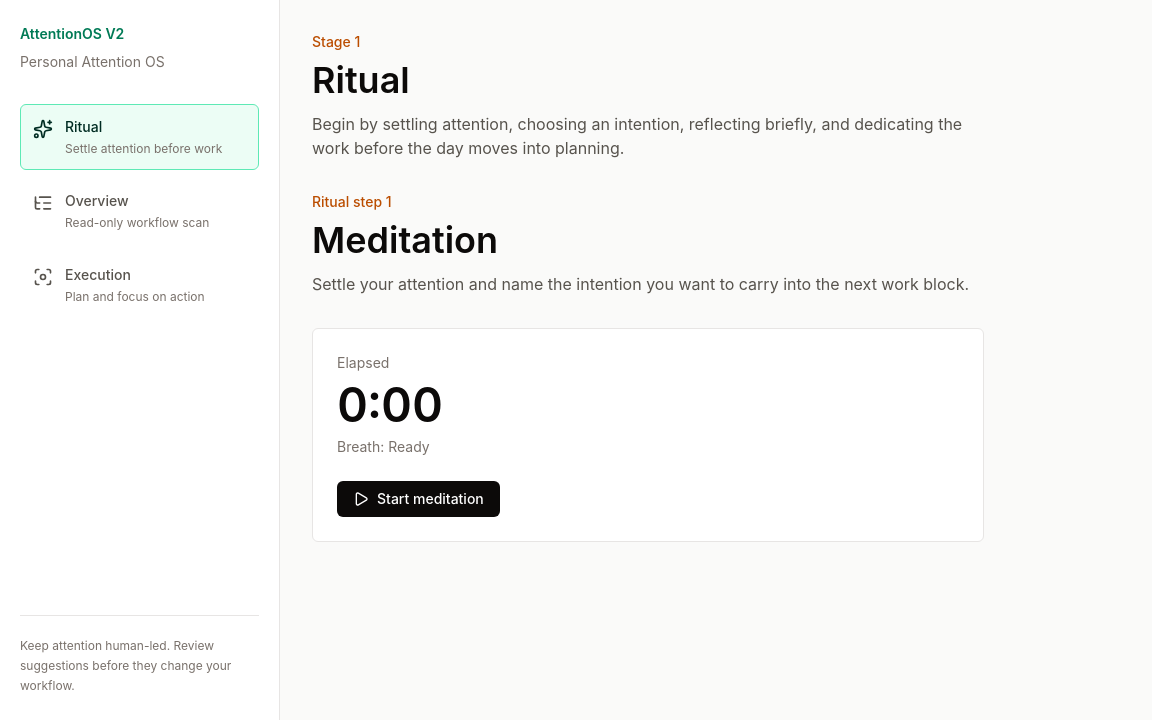
Test: RitualPage workflow › renders settling-oriented meditation controls without implementation copy
Expected: the heading "Meditation" is shown, [312,218,498,262]
Expected: the text "Settle your attention" is shown, [312,274,969,294]
Click the button "Start meditation": [418, 499] box [337,481,500,517]
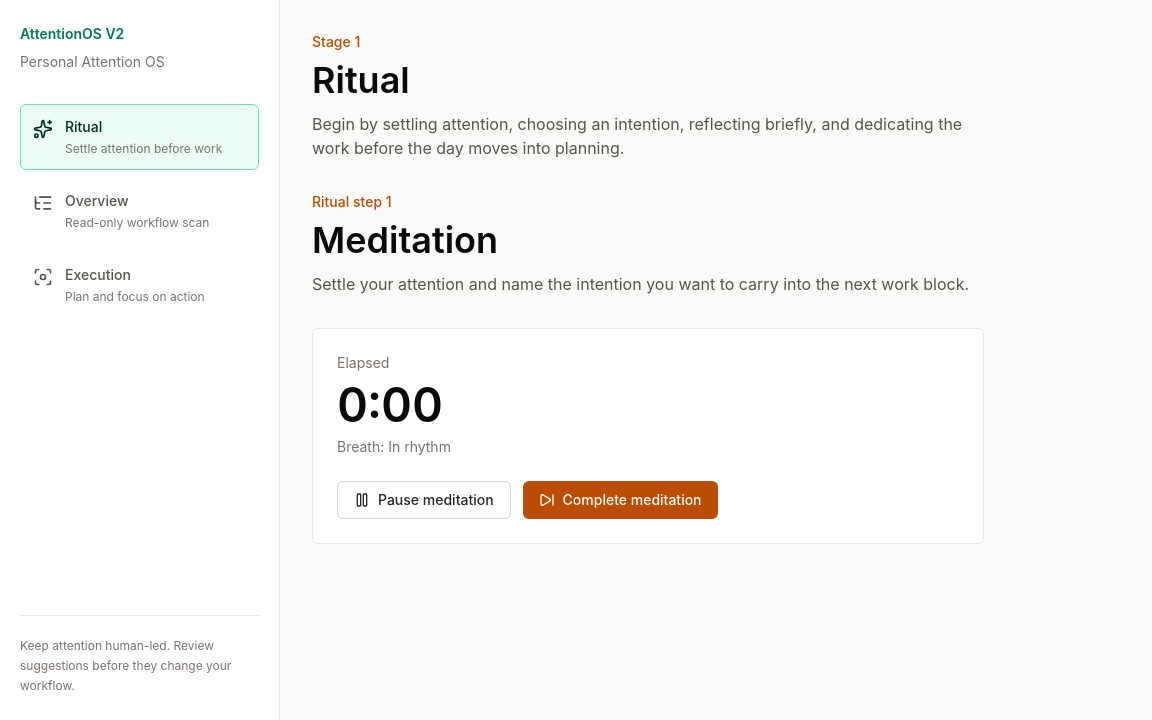
Now the button "Pause meditation" is shown
Now the text "Breath: In rhythm" is shown, box [337,438,451,455]
Click the button "Pause meditation": [424, 500] box [337,481,511,519]
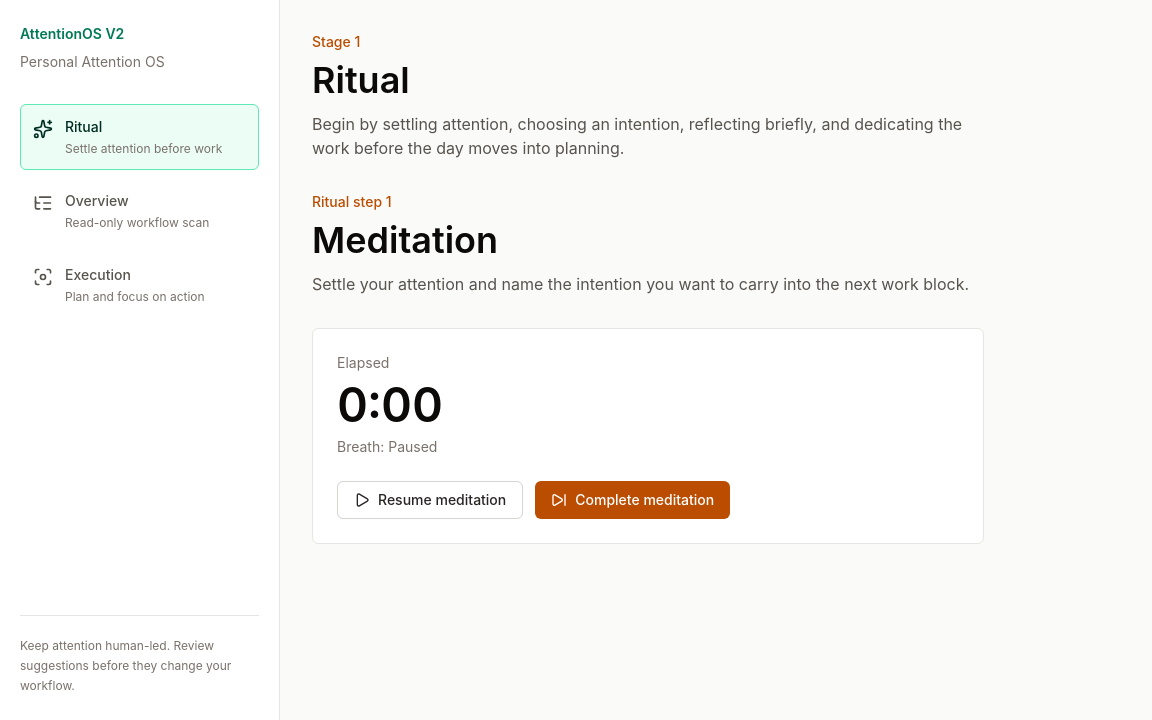
Now the button "Resume meditation" is shown, box [337,481,523,519]
Now the text "Breath: Paused" is shown, box [337,438,437,455]
